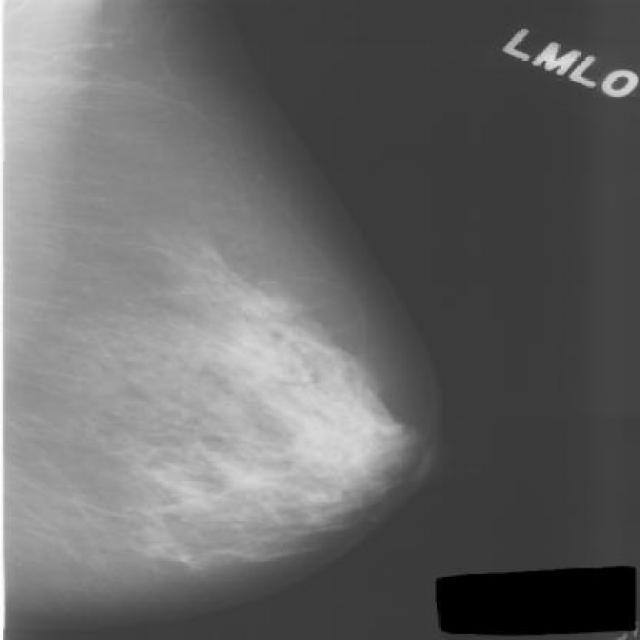tumor: (180, 200, 443, 556)
